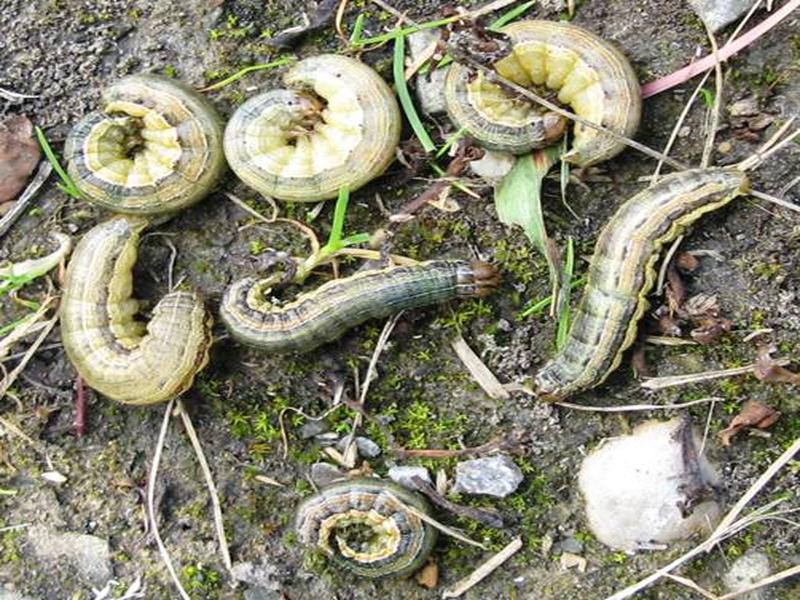Armyworms: (539, 157, 753, 419), (209, 248, 511, 361), (445, 18, 642, 177), (218, 54, 412, 204), (54, 226, 205, 415), (51, 71, 225, 222), (261, 469, 453, 587)
